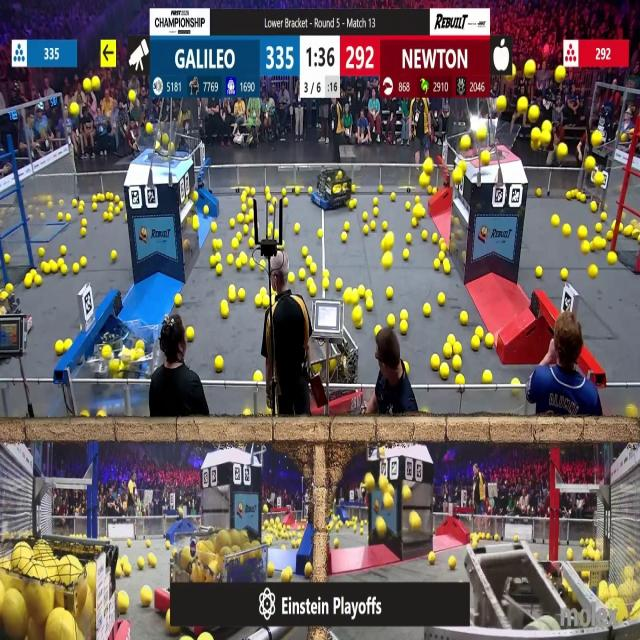ball_airborne: (528, 106, 540, 121), (592, 131, 602, 147), (518, 98, 528, 114), (556, 66, 566, 82), (496, 97, 506, 112), (364, 475, 374, 490), (525, 61, 535, 76), (460, 136, 470, 150), (594, 172, 604, 186), (401, 486, 410, 501), (478, 127, 487, 141), (558, 144, 567, 158), (384, 494, 393, 508), (424, 160, 433, 174), (379, 477, 388, 491), (540, 132, 550, 144), (587, 158, 596, 171), (590, 266, 598, 280), (482, 151, 491, 163), (577, 228, 586, 240), (453, 170, 462, 182), (93, 76, 101, 89), (420, 174, 428, 187), (608, 252, 616, 264), (531, 129, 539, 141), (594, 238, 602, 250), (563, 223, 570, 236), (553, 213, 560, 226), (83, 78, 90, 91), (541, 119, 549, 130), (70, 104, 78, 115), (583, 242, 590, 254), (168, 142, 175, 154), (530, 140, 538, 150), (130, 91, 136, 103), (591, 203, 598, 213), (146, 124, 152, 135), (154, 141, 160, 151), (164, 134, 170, 144), (459, 162, 465, 172), (380, 448, 386, 457), (513, 66, 517, 77)
ball_ground: (116, 593, 128, 613), (141, 588, 152, 608), (384, 236, 394, 250), (214, 356, 223, 371), (627, 406, 637, 419), (353, 308, 362, 322), (430, 355, 439, 369), (383, 252, 392, 266), (282, 567, 291, 581), (453, 355, 461, 370), (57, 341, 65, 356), (483, 371, 492, 384), (442, 364, 451, 377), (221, 304, 228, 320), (460, 312, 468, 326), (227, 288, 235, 302), (486, 336, 494, 349), (471, 338, 479, 351), (345, 290, 353, 303), (416, 206, 425, 217), (424, 304, 431, 318), (444, 262, 451, 276), (306, 563, 313, 577), (386, 286, 394, 298), (449, 557, 457, 569), (238, 289, 246, 301), (454, 344, 462, 356), (445, 345, 453, 357), (138, 558, 146, 570), (148, 555, 156, 567), (439, 292, 446, 305), (186, 327, 193, 340), (254, 371, 262, 382), (357, 286, 365, 297), (64, 340, 72, 351), (399, 321, 406, 333), (365, 300, 372, 312), (254, 295, 261, 307), (26, 276, 33, 288), (428, 553, 435, 565), (123, 564, 130, 576), (456, 375, 464, 385), (474, 326, 482, 336), (41, 264, 49, 274), (269, 563, 275, 576), (388, 315, 395, 326), (310, 285, 317, 296), (562, 269, 568, 281), (337, 279, 343, 291), (216, 265, 222, 277), (192, 218, 198, 230), (348, 201, 356, 210), (116, 565, 122, 577), (298, 270, 305, 280), (175, 294, 182, 304), (399, 310, 406, 320), (226, 254, 233, 264), (535, 268, 542, 278), (35, 276, 42, 286), (264, 296, 271, 306), (625, 228, 632, 238), (247, 212, 254, 222), (402, 249, 408, 260), (322, 279, 328, 290), (288, 273, 294, 284), (80, 256, 86, 267), (434, 261, 440, 272), (236, 260, 242, 271), (567, 550, 573, 561), (105, 212, 112, 221), (238, 214, 245, 223), (106, 191, 113, 200), (363, 224, 369, 234), (596, 222, 602, 232), (73, 265, 79, 275), (61, 246, 67, 256), (407, 234, 413, 244), (50, 264, 56, 274), (210, 255, 216, 265), (244, 224, 250, 234), (311, 266, 317, 276), (422, 232, 428, 242), (293, 222, 299, 232), (249, 261, 255, 271), (62, 266, 68, 276), (369, 220, 375, 230), (215, 240, 221, 250), (241, 253, 247, 263), (306, 255, 312, 265), (342, 233, 348, 243), (375, 324, 381, 334), (231, 216, 237, 226), (233, 240, 240, 248), (448, 336, 455, 344), (244, 410, 251, 418), (364, 289, 371, 297), (513, 379, 520, 387), (111, 250, 116, 261), (403, 361, 408, 372), (204, 206, 210, 215), (4, 254, 10, 263), (38, 248, 44, 257), (431, 235, 437, 244), (269, 206, 275, 215), (362, 212, 368, 221), (303, 247, 309, 256), (317, 230, 323, 239), (306, 278, 312, 287), (335, 538, 341, 547), (413, 217, 418, 227), (607, 232, 612, 242), (601, 212, 606, 222), (99, 412, 106, 419), (81, 412, 88, 419), (114, 208, 120, 216), (260, 287, 266, 295), (390, 192, 396, 200), (322, 270, 328, 278), (72, 200, 78, 208), (59, 258, 65, 266), (236, 232, 242, 240), (248, 200, 254, 208), (441, 243, 447, 251), (407, 203, 413, 211), (108, 204, 114, 212), (165, 540, 171, 548), (6, 284, 12, 292), (98, 192, 104, 200), (241, 194, 247, 202), (249, 239, 254, 248), (383, 221, 388, 230), (80, 229, 85, 238), (536, 187, 541, 196), (269, 230, 274, 239), (242, 204, 247, 213), (356, 321, 362, 328), (371, 208, 377, 215), (268, 410, 274, 417), (269, 221, 275, 228), (212, 222, 217, 230), (345, 222, 350, 230), (283, 199, 288, 207), (81, 218, 86, 226), (267, 192, 272, 200), (259, 265, 264, 273), (114, 194, 119, 202), (192, 191, 196, 201), (536, 553, 541, 561), (566, 194, 571, 202), (272, 198, 277, 206), (372, 199, 376, 208), (275, 231, 279, 240), (78, 202, 84, 208), (66, 214, 71, 221), (59, 213, 64, 220), (78, 207, 83, 214), (128, 539, 133, 546), (118, 202, 123, 209), (282, 188, 287, 195), (294, 187, 299, 194), (93, 194, 98, 201), (359, 528, 364, 535), (94, 204, 98, 212), (146, 539, 150, 547), (380, 185, 384, 192), (416, 195, 420, 202), (515, 535, 519, 542), (272, 288, 276, 295), (441, 252, 445, 258), (282, 544, 286, 550), (309, 187, 313, 193)
goal: (468, 123, 522, 160), (137, 132, 192, 160)
robot_blue: (86, 328, 154, 415), (310, 164, 351, 210)
robot_red: (308, 331, 363, 412), (0, 285, 35, 359)
